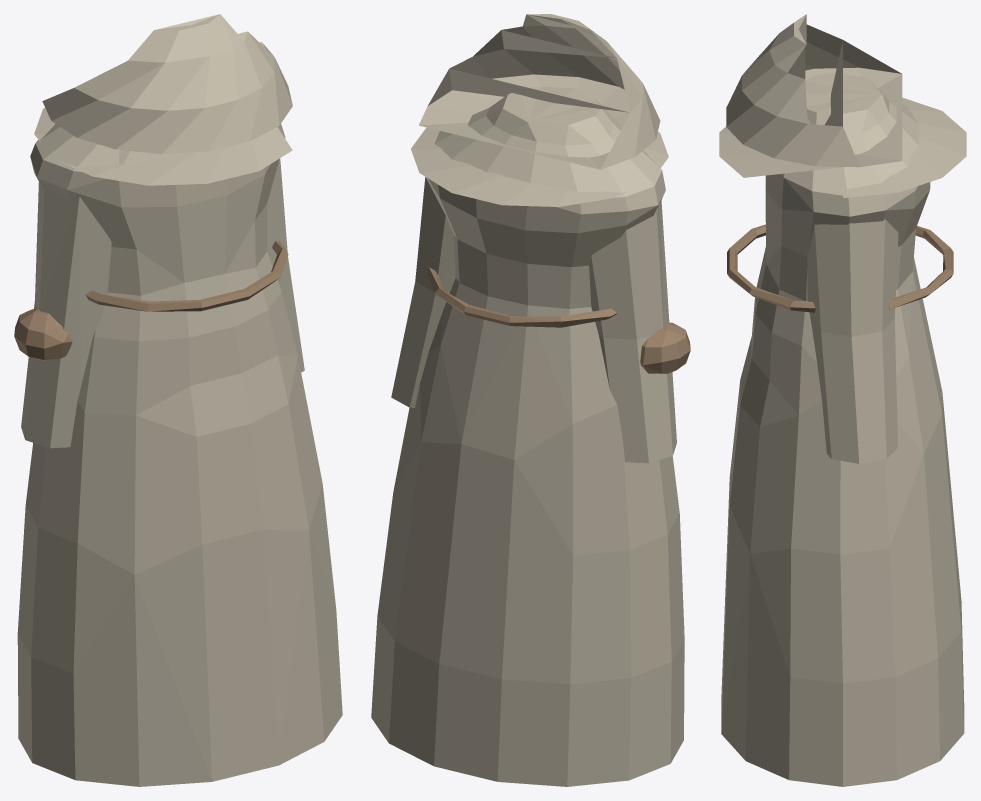
Rendered from 19-NPCs_vestimenta_anciano.glb.
3 views of the same model, side by side, from view 1: azimuth 30°, elevation 25°; view 2: azimuth 150°, elevation 25°; view 3: azimuth 270°, elevation 25° (orthographic). The views are drawn at different scales.
Visible parts, largest first — view 1: SM_Tun_M_Tun_Lino, SM_Tun_M_Tun_Cuero; view 2: SM_Tun_M_Tun_Lino, SM_Tun_M_Tun_Cuero; view 3: SM_Tun_M_Tun_Lino, SM_Tun_M_Tun_Cuero.
Part boxes in pixels (x1=…): SM_Tun_M_Tun_Lino: x1=17, y1=14, x2=342, y2=786; SM_Tun_M_Tun_Cuero: x1=14, y1=240, x2=288, y2=361; SM_Tun_M_Tun_Lino: x1=371, y1=14, x2=684, y2=786; SM_Tun_M_Tun_Cuero: x1=427, y1=267, x2=690, y2=373; SM_Tun_M_Tun_Lino: x1=719, y1=14, x2=966, y2=786; SM_Tun_M_Tun_Cuero: x1=727, y1=224, x2=953, y2=312.
Bounding box in the file's own units: 0.628 × 1.4 × 0.4582.
